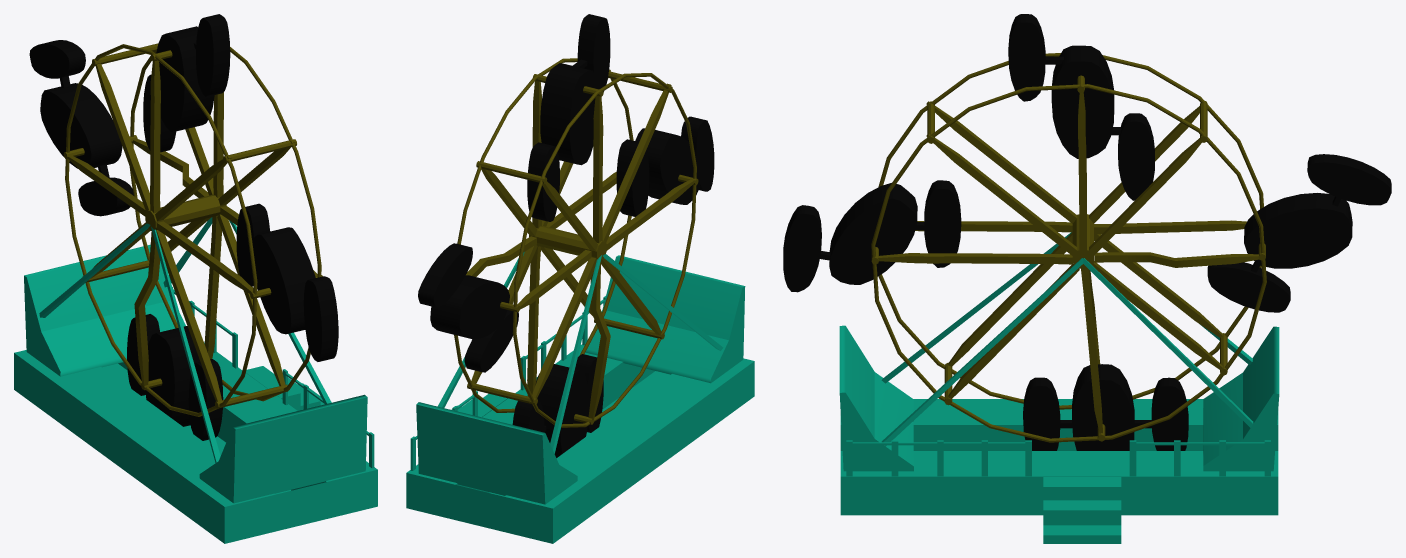
File: ZhipperWheelStill_02.fbx
3 renders of one model, left to right at view 1: azimuth 30°, elevation 25°; view 2: azimuth 150°, elevation 25°; view 3: azimuth 270°, elevation 25°, orthographic. The views are drawn at different scales.
Visible parts, largest first — view 1: FarisWheel; view 2: FarisWheel; view 3: FarisWheel.
Part boxes in pixels (x1,y1,x2,y2): FarisWheel: (14,14,377,543); FarisWheel: (406,14,754,543); FarisWheel: (783,14,1391,543).
Size of the model in its own units: 7.04 by 13.95 by 16.76.
